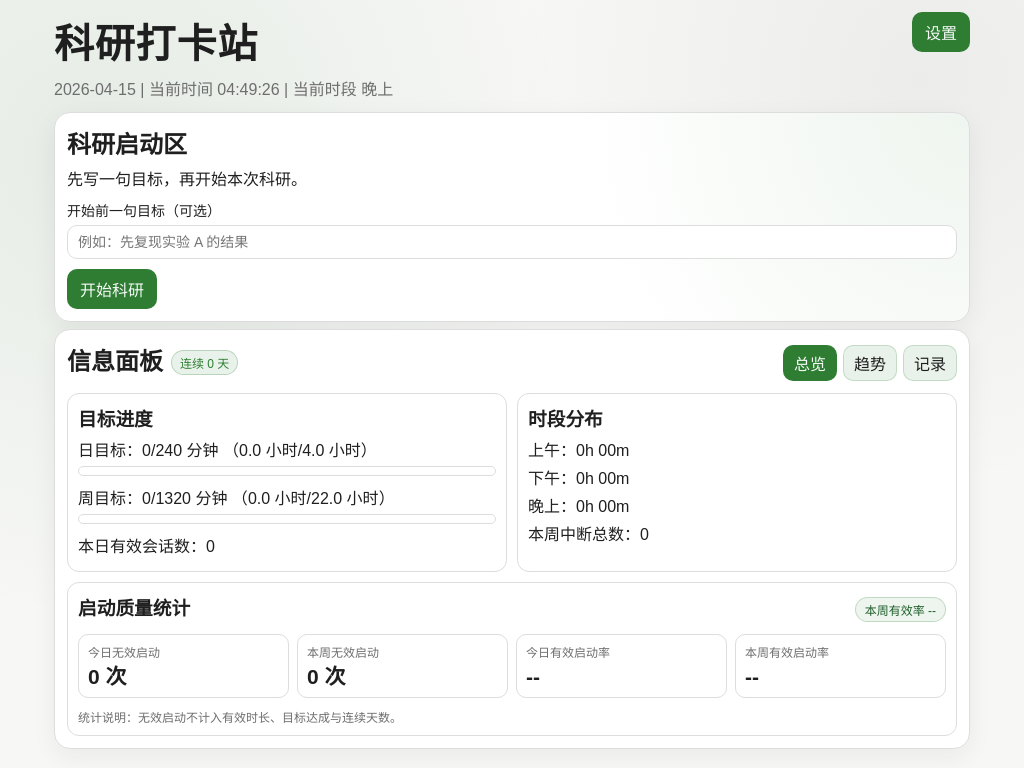
Scenario: App integration › hides low-frequency blocks by default and reveals them by tab switch
The width and height of the screenshot is (1024, 768).
Expected: the heading "科研启动区" is shown, x1=67 y1=131 x2=187 y2=158
Expected: the text "最近 7 天趋势" is not shown
Click the tab "趋势" at (870, 362), box x1=843 y1=344 x2=897 y2=380
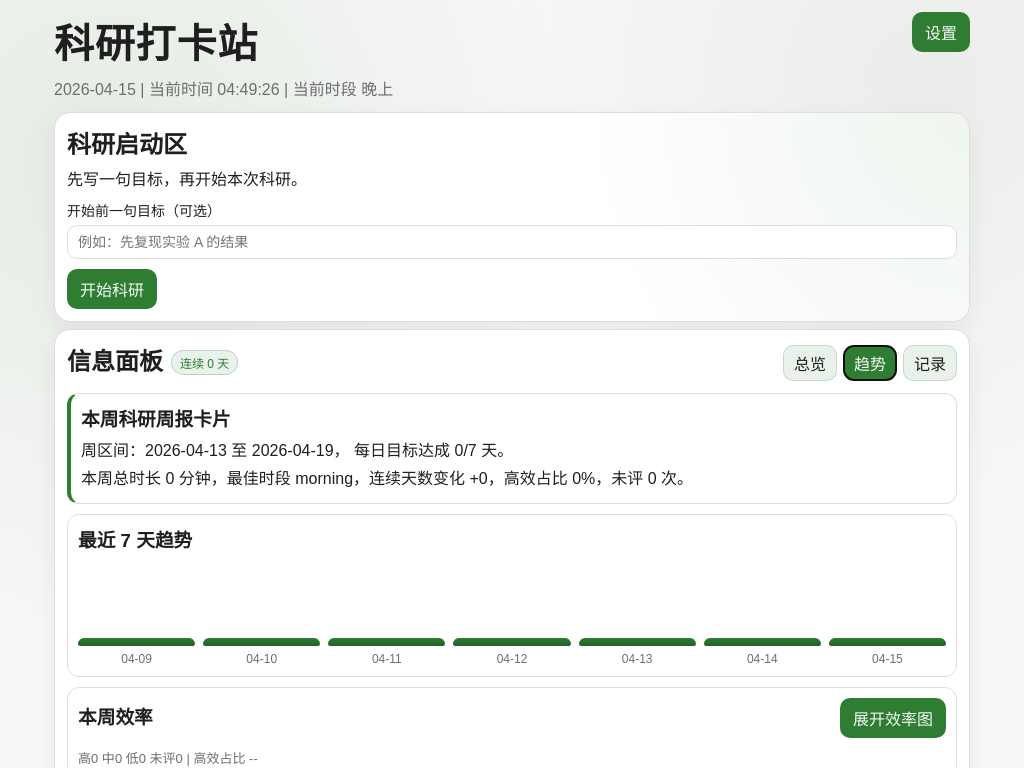
Now the heading "最近 7 天趋势" is shown, box x1=78 y1=530 x2=192 y2=551
Now the heading "本周科研周报卡片" is shown, box x1=81 y1=409 x2=231 y2=430
Click the tab "记录" at (930, 362), box x1=903 y1=344 x2=957 y2=380
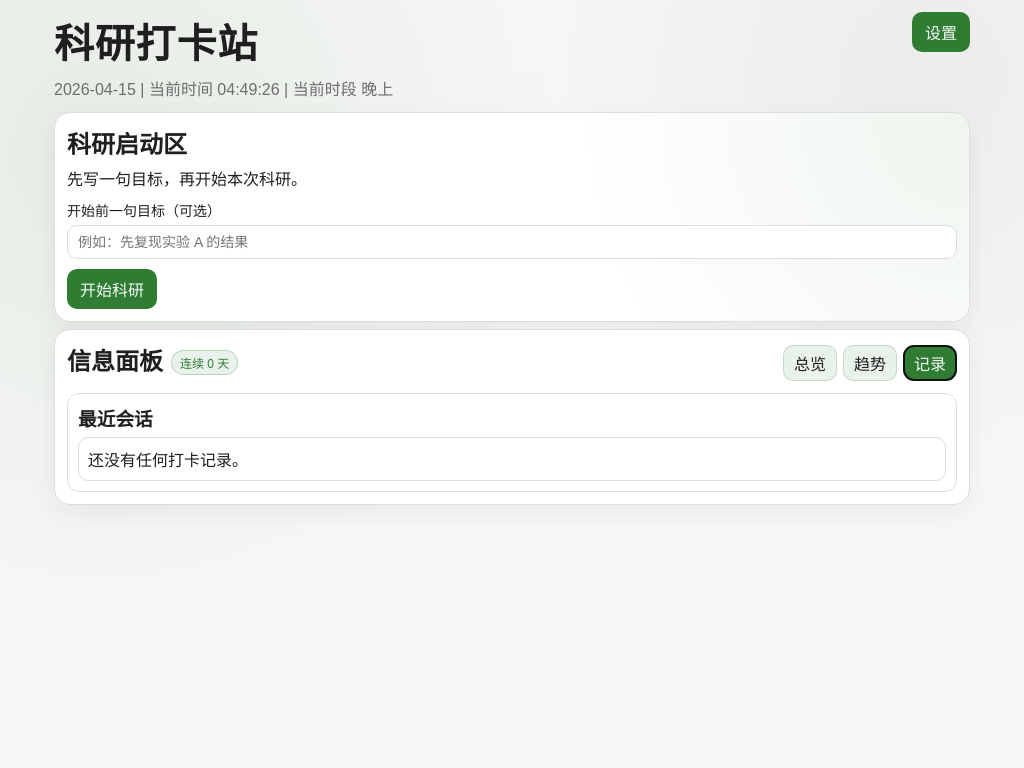
Now the heading "最近会话" is shown, box x1=78 y1=409 x2=153 y2=430
